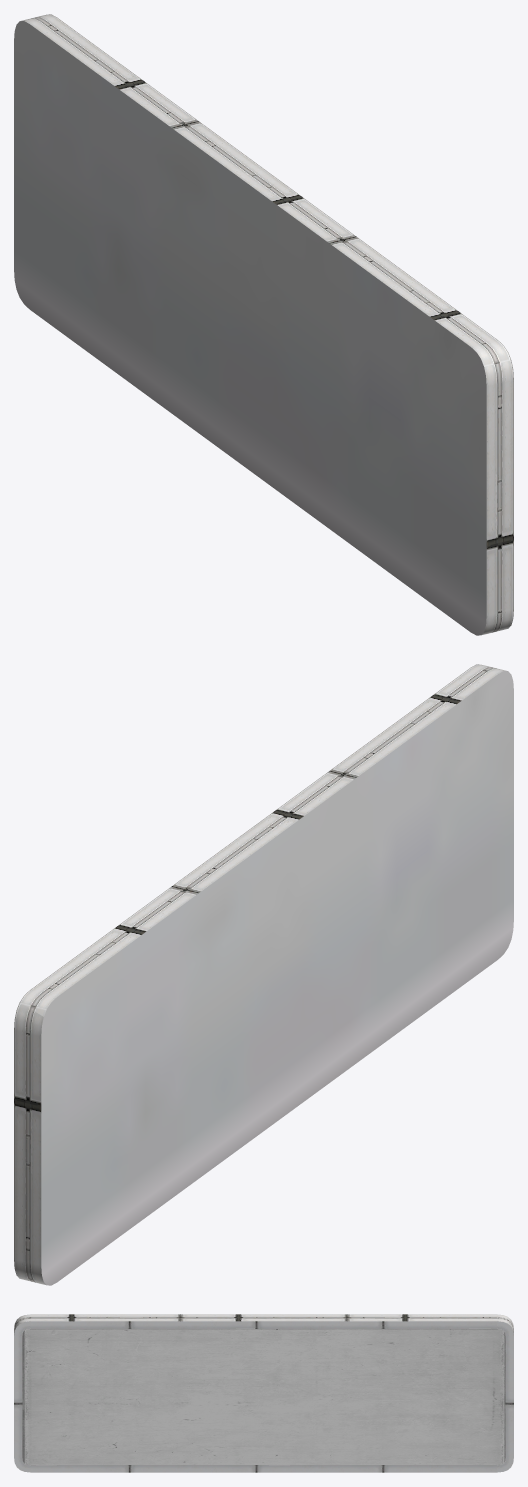
Rendered from Emb_OfficeBoard_01.FBX.
3 renders of one model, top to bottom at view 1: azimuth 30°, elevation 25°; view 2: azimuth 150°, elevation 25°; view 3: azimuth 270°, elevation 25°, orthographic. The views are drawn at different scales.
Visible parts, largest first — view 1: Emb_OfficeBoard_01; view 2: Emb_OfficeBoard_01; view 3: Emb_OfficeBoard_01.
Boxes of the visible parts, x1,y1,x2,y2 form: Emb_OfficeBoard_01: (14, 14, 513, 635); Emb_OfficeBoard_01: (14, 664, 513, 1285); Emb_OfficeBoard_01: (14, 1314, 513, 1472).
Bounding box in the file's own units: 0.1 × 1 × 3.
